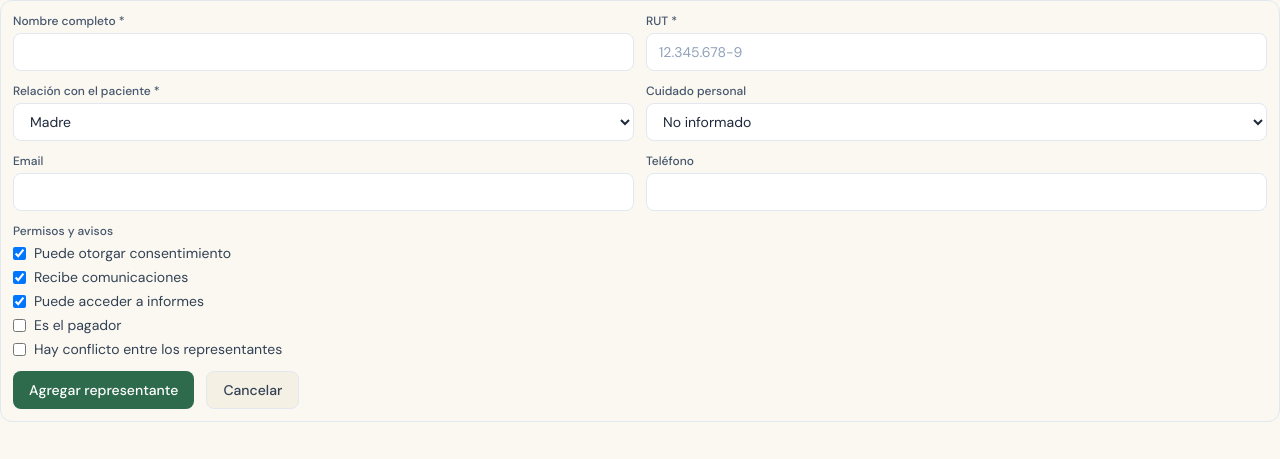
Scenario: GuardianForm › rechaza un RUT inválido
In the field labelled "Nombre completo *": (324, 52) [13,33,634,71], type "Ana Pérez"
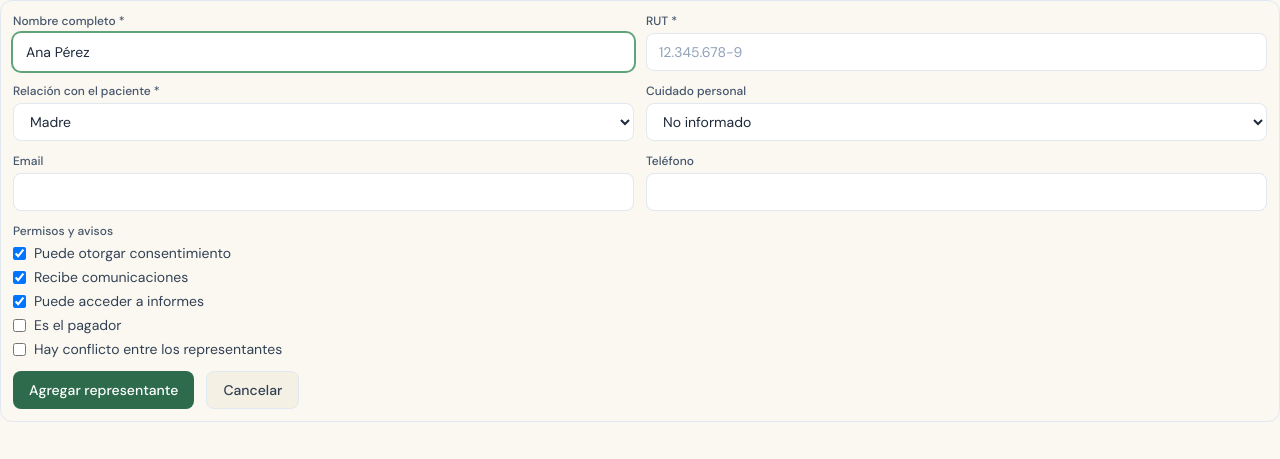
In the field labelled "RUT *": (956, 52) [646,33,1267,71], type "12345678-0"
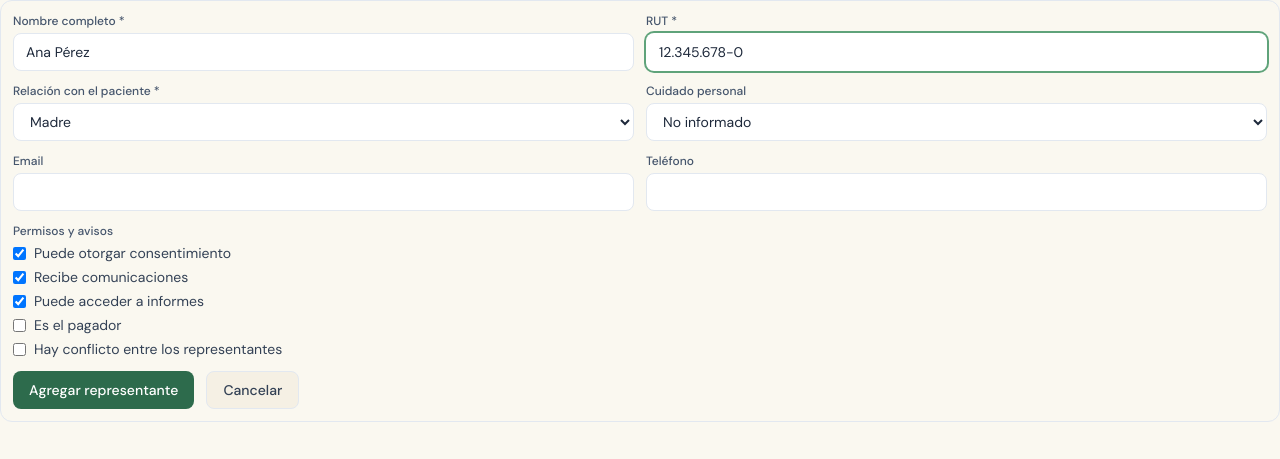
Click the button "Agregar representante": (104, 390) [13,371,194,409]
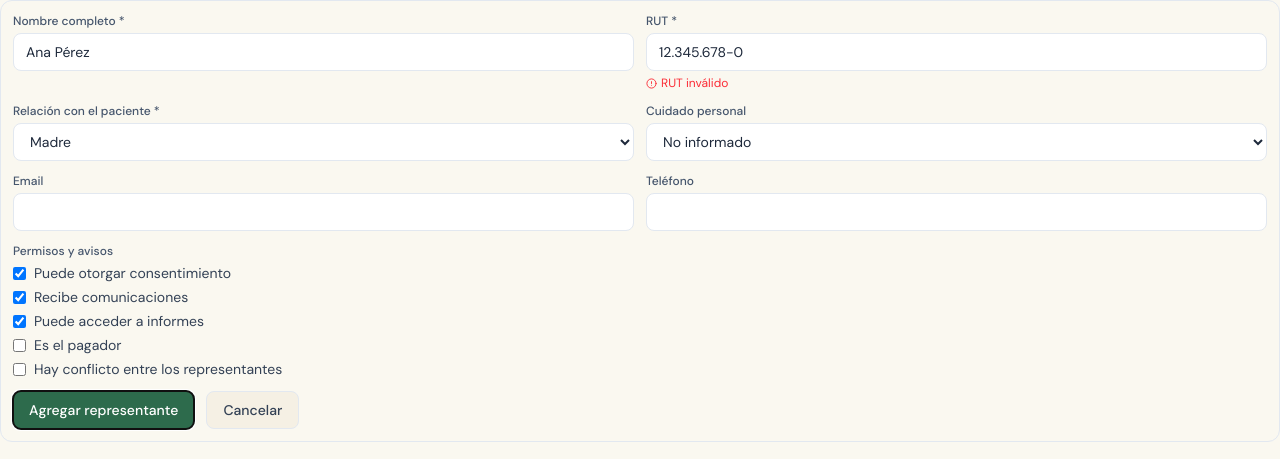
Now the text "RUT inválido" is shown, box [646,75,728,91]
